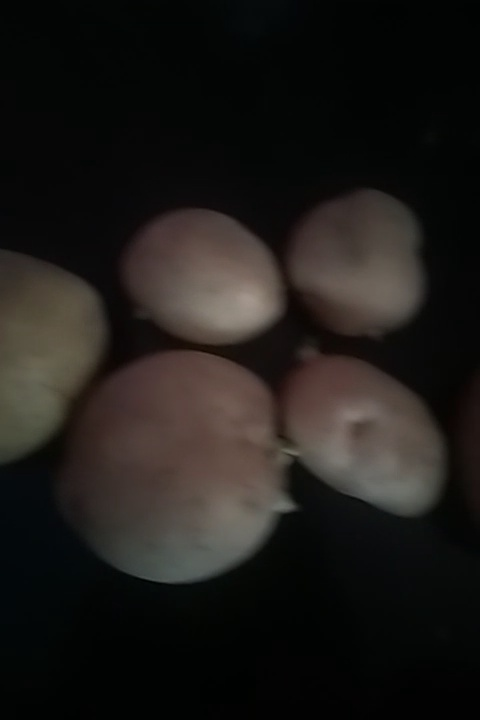potato: (62, 350, 313, 598), (259, 350, 459, 526), (1, 251, 118, 458), (119, 209, 288, 351), (282, 197, 444, 340)
